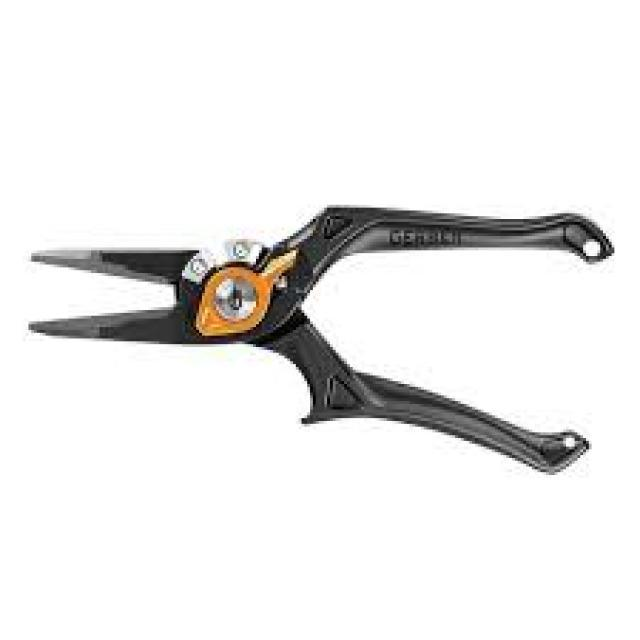pliers: (9, 190, 618, 480)
